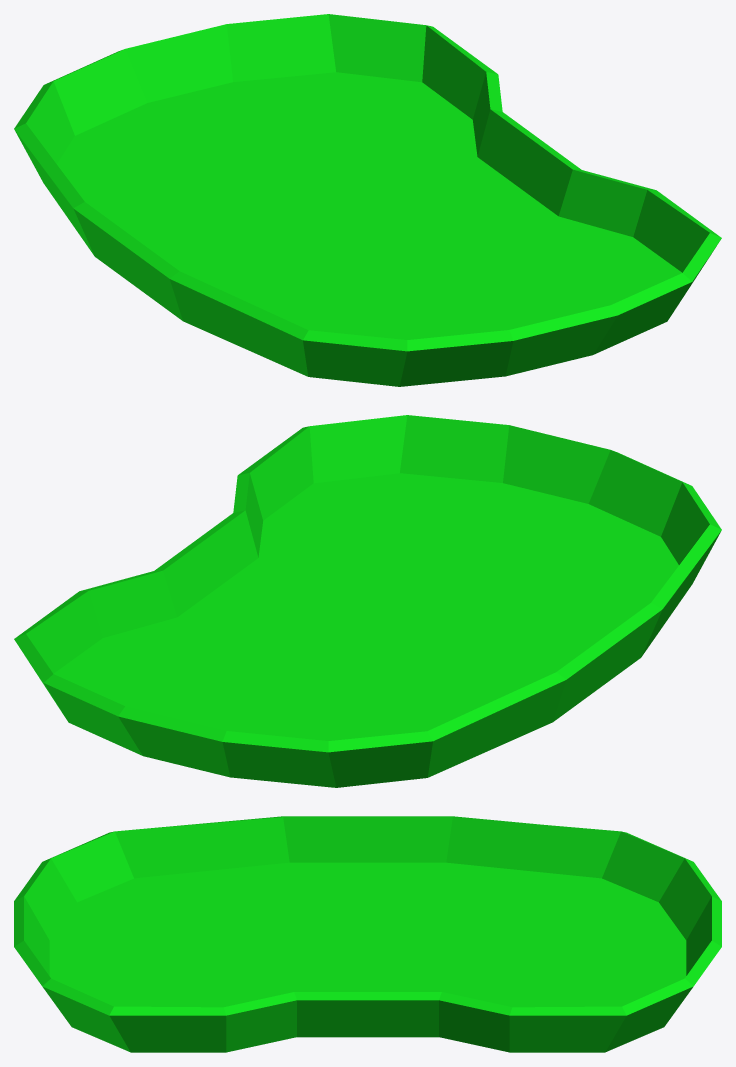
File: Plate_Steel_02.fbx
3 renders of one model, top to bottom at view 1: azimuth 30°, elevation 25°; view 2: azimuth 150°, elevation 25°; view 3: azimuth 270°, elevation 25°, orthographic. The views are drawn at different scales.
Visible parts, largest first — view 1: Plate_Steel_02; view 2: Plate_Steel_02; view 3: Plate_Steel_02.
Boxes of the visible parts, x1,y1,x2,y2 form: Plate_Steel_02: (14,14,721,386); Plate_Steel_02: (14,415,721,787); Plate_Steel_02: (14,816,721,1052).
Bounding box in the file's own units: 13.14 × 1.55 × 19.74.
